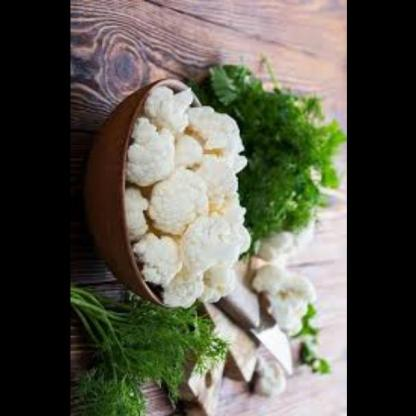cayliflower: (122, 84, 257, 307), (263, 222, 319, 330), (249, 352, 290, 399)
